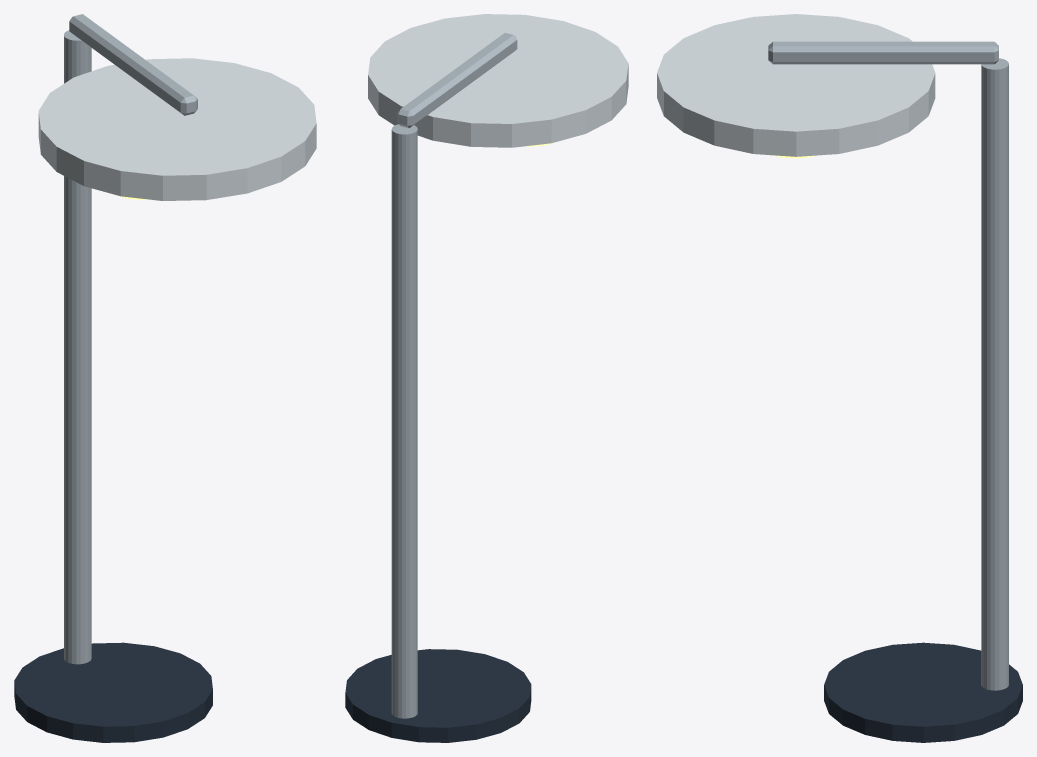
The model's file is medical_06.glb.
3 renders of one model, left to right at view 1: azimuth 30°, elevation 25°; view 2: azimuth 150°, elevation 25°; view 3: azimuth 270°, elevation 25°, orthographic. The views are drawn at different scales.
Visible parts, largest first — view 1: LampHead, LampBase, LampMast, LampArm; view 2: LampHead, LampMast, LampBase, LampArm; view 3: LampHead, LampMast, LampBase, LampArm.
Boxes of the visible parts, x1,y1,x2,y2 form: LampHead: (38, 58, 316, 200); LampBase: (14, 642, 212, 742); LampMast: (64, 30, 91, 664); LampArm: (69, 14, 197, 115); LampHead: (368, 14, 628, 147); LampMast: (391, 124, 417, 718); LampBase: (345, 649, 531, 742); LampArm: (397, 33, 517, 128); LampHead: (657, 14, 935, 156); LampMast: (981, 58, 1008, 690); LampBase: (824, 642, 1022, 742); LampArm: (768, 41, 998, 64).
Size of the model in its own units: 0.7 by 1.82 by 0.92.
